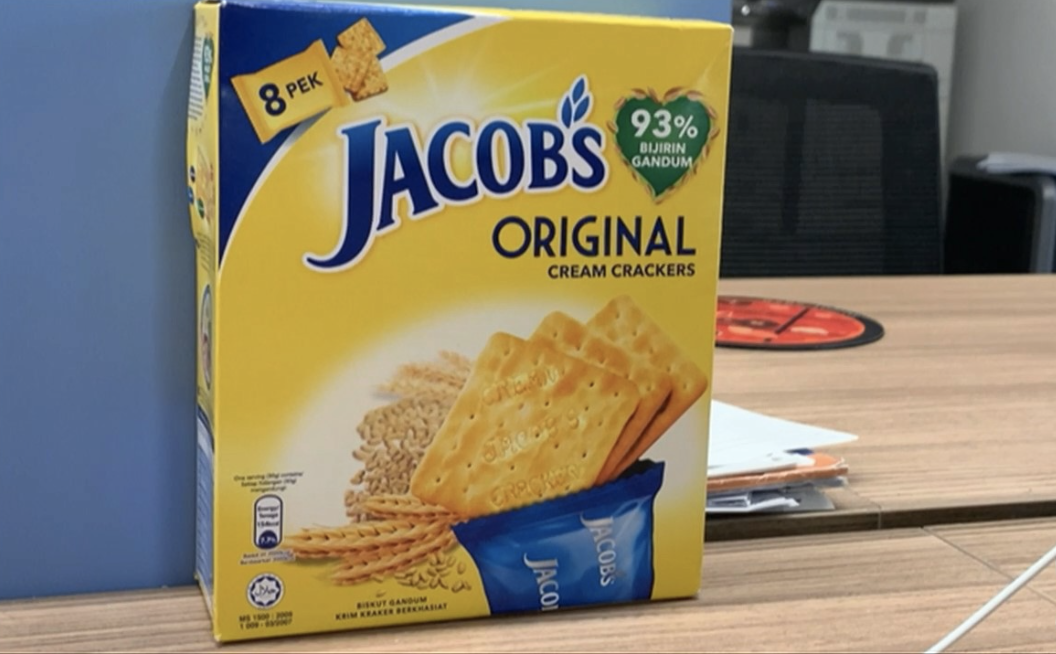crackers_200g-299g: (231, 22, 717, 631)
